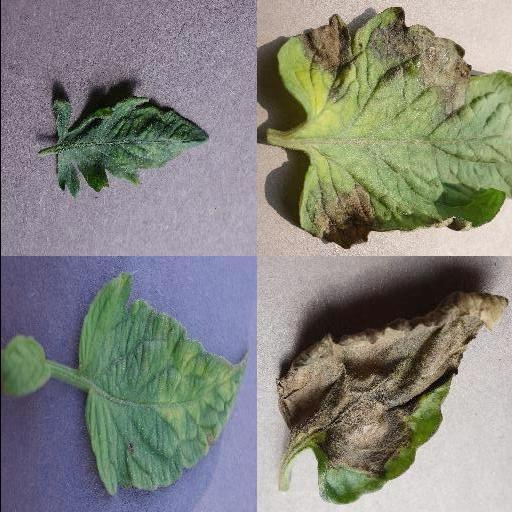Late Blight: (274, 6, 512, 251), (277, 290, 511, 504)
Leaf Mold: (76, 270, 246, 498)
Mosaic Virus: (47, 92, 211, 198)
